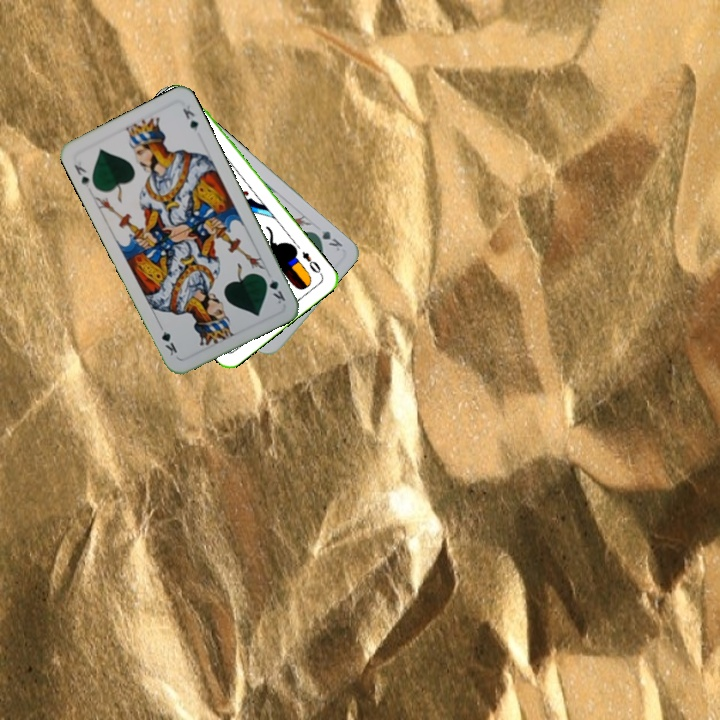EO: (298, 247, 325, 278)
GK: (308, 226, 345, 254), (259, 272, 288, 307), (70, 160, 92, 190)
